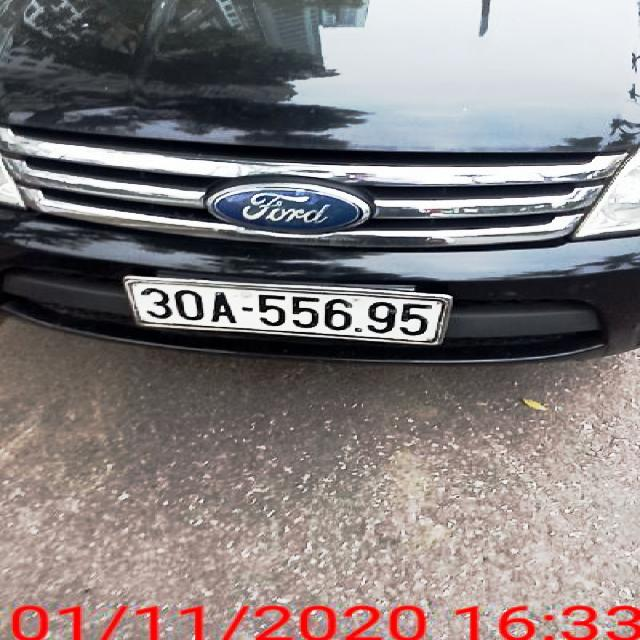license_plate: (129, 280, 450, 342)
